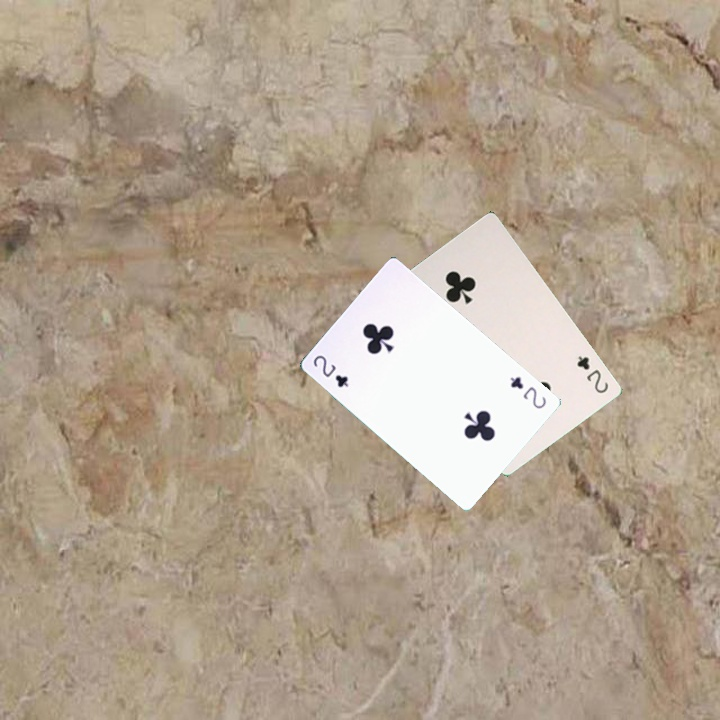2c: (506, 372, 549, 412), (573, 351, 611, 396), (309, 351, 351, 390)
